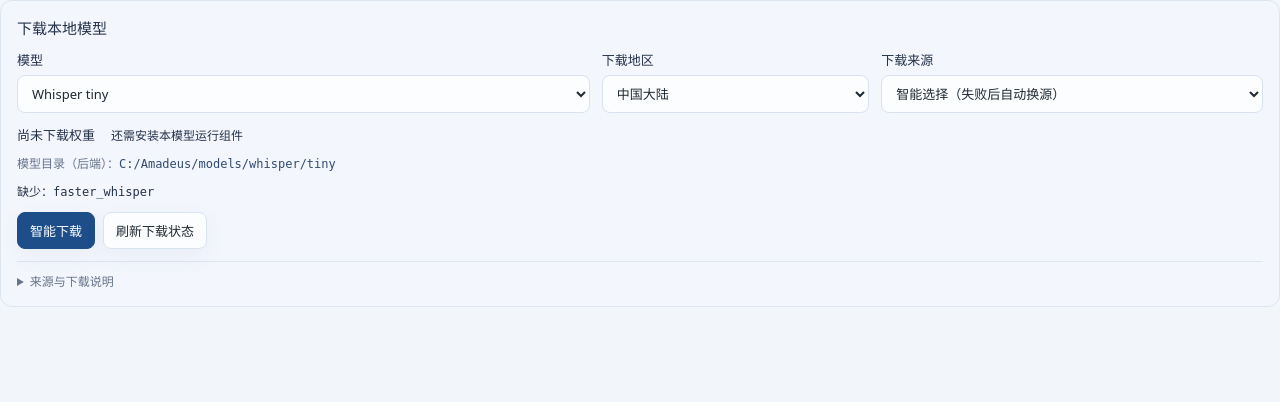
local model download UI › keeps an action failure visible when the next background catalog poll succeeds
Click the button "智能下载" at (56, 230), box 17,212 -> 95,249
Wait 1600 ms
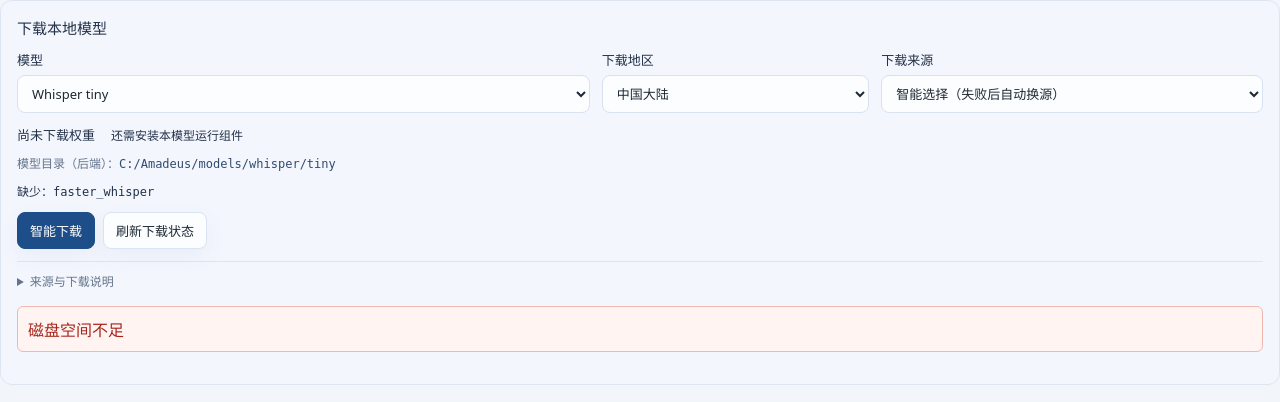
Expected: the message reads "磁盘空间不足", 28,319 -> 124,341
